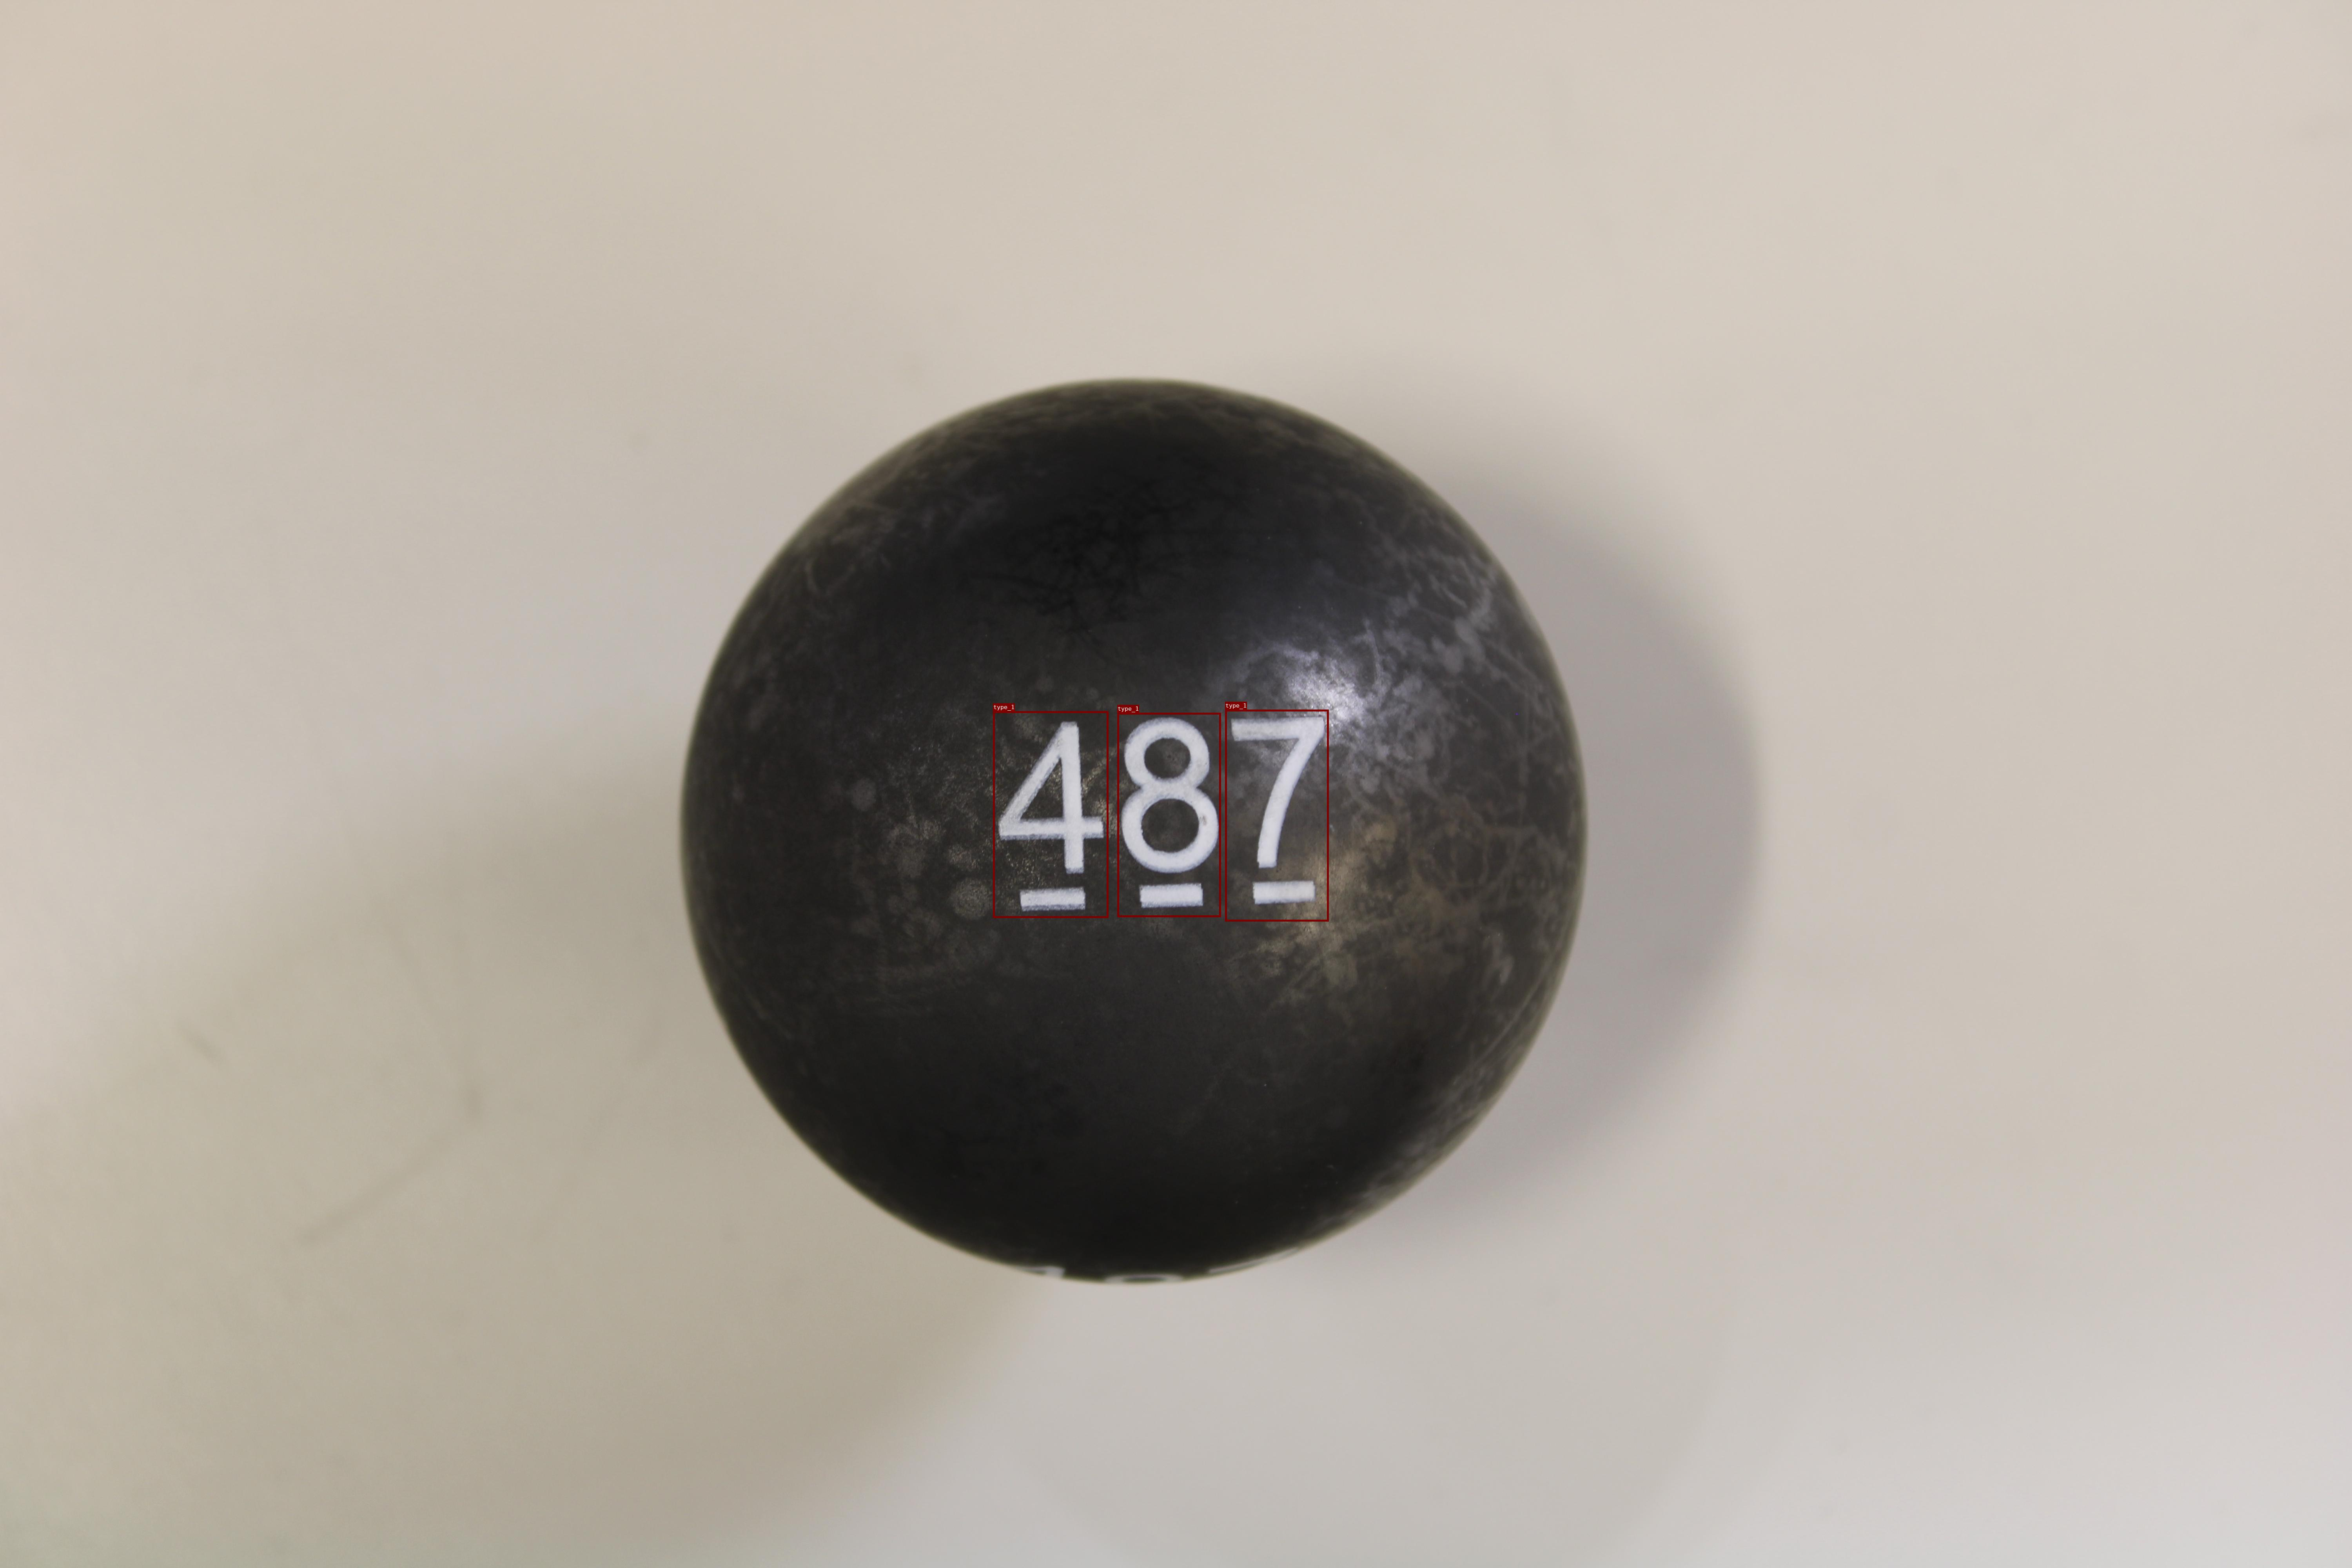type_1: (992, 710, 1108, 917), (1225, 709, 1328, 921), (1116, 712, 1221, 917)
